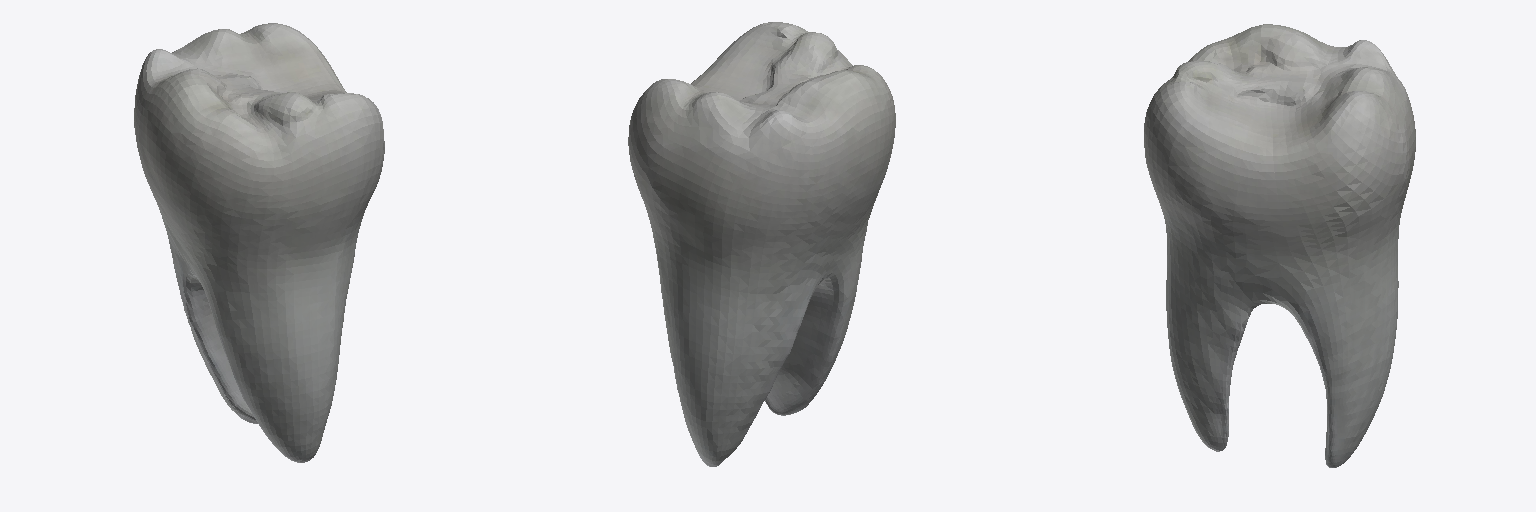
3 views of the same model, side by side, from view 1: azimuth 30°, elevation 25°; view 2: azimuth 150°, elevation 25°; view 3: azimuth 270°, elevation 25° (orthographic).
Visible parts, largest first — view 1: mesh; view 2: mesh; view 3: mesh.
Boxes of the visible parts, <box> form: mesh: <box>134,23,384,462</box>; mesh: <box>628,22,895,466</box>; mesh: <box>1144,24,1415,467</box>.
Size of the model in its own units: 0.5565 by 0.9997 by 0.63.
Materials: 1 (1 with a texture image).